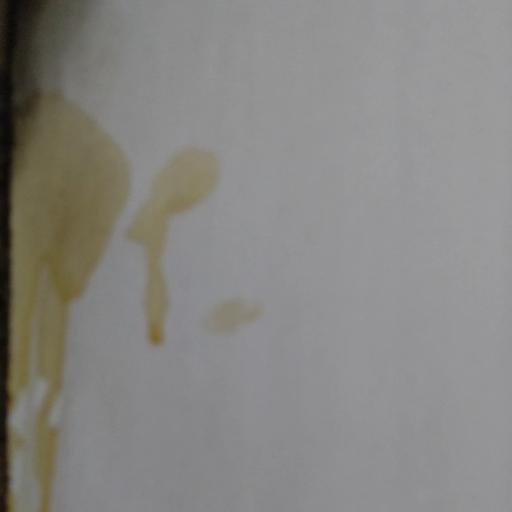stain: (0, 0, 126, 501), (116, 107, 276, 374)
